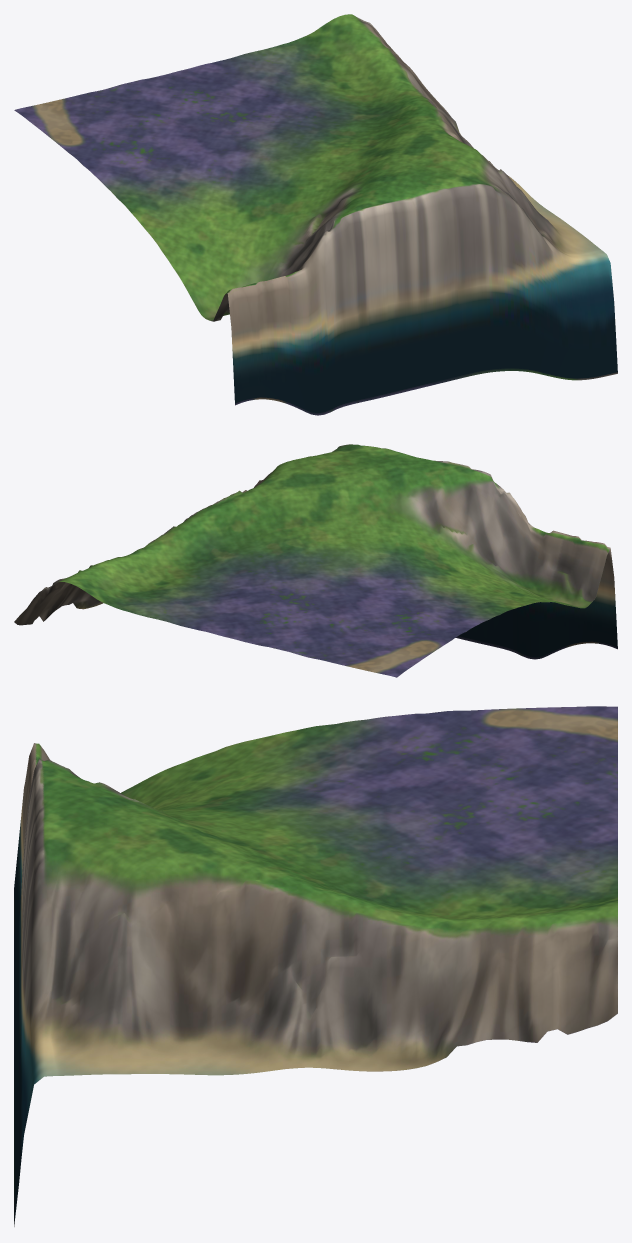
3 views of the same model, one above another, from view 1: azimuth 30°, elevation 25°; view 2: azimuth 150°, elevation 25°; view 3: azimuth 270°, elevation 25° (orthographic). The views are drawn at different scales.
Visible parts, largest first — view 1: t128_000; view 2: t128_000; view 3: t128_000.
Part boxes in pixels (left/top/right/bottom): t128_000: left=14, top=14, right=617, bottom=415; t128_000: left=14, top=444, right=617, bottom=677; t128_000: left=14, top=706, right=617, bottom=1226.
Bounding box in the file's own units: 64 × 35.04 × 64.
1 material, 1 textured.
